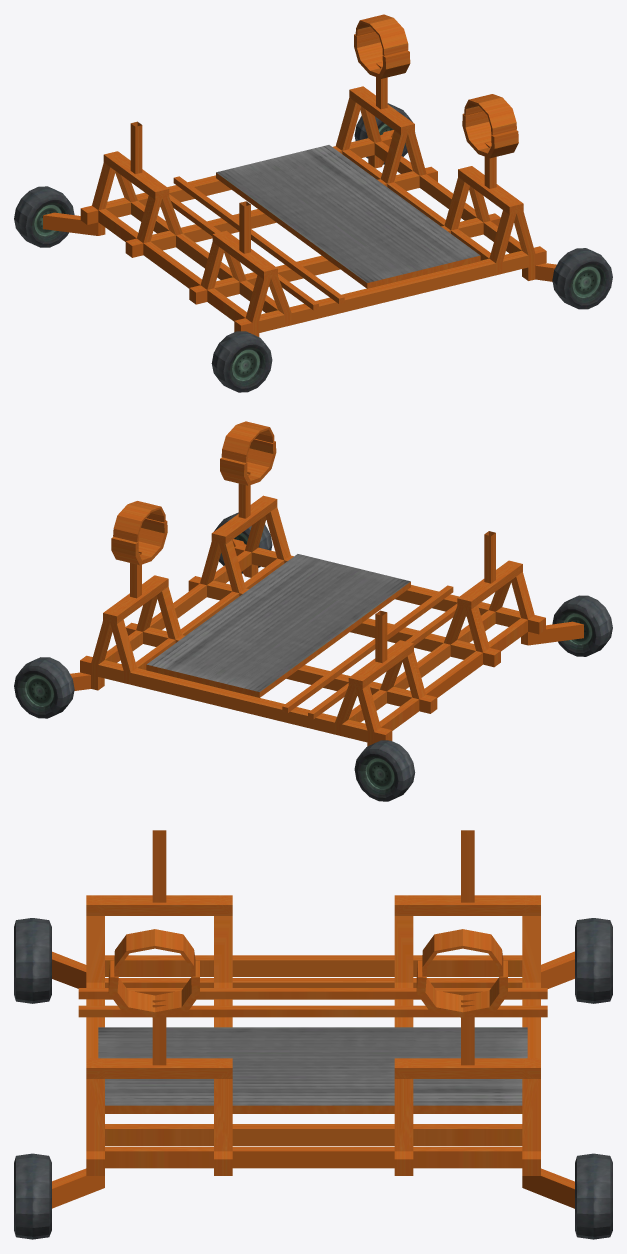
Rendered from stand_missile_cart.glb.
3 renders of one model, top to bottom at view 1: azimuth 30°, elevation 25°; view 2: azimuth 150°, elevation 25°; view 3: azimuth 270°, elevation 25°, orthographic. The views are drawn at different scales.
Visible parts, largest first — view 1: weapon; view 2: weapon; view 3: weapon.
Boxes of the visible parts, bbox=[...] form: weapon: bbox=[14, 14, 612, 392]; weapon: bbox=[14, 421, 612, 801]; weapon: bbox=[14, 830, 612, 1239].
Bounding box in the file's own units: 1 × 0.4539 × 0.9322.
Materials: 1 (1 with a texture image).
